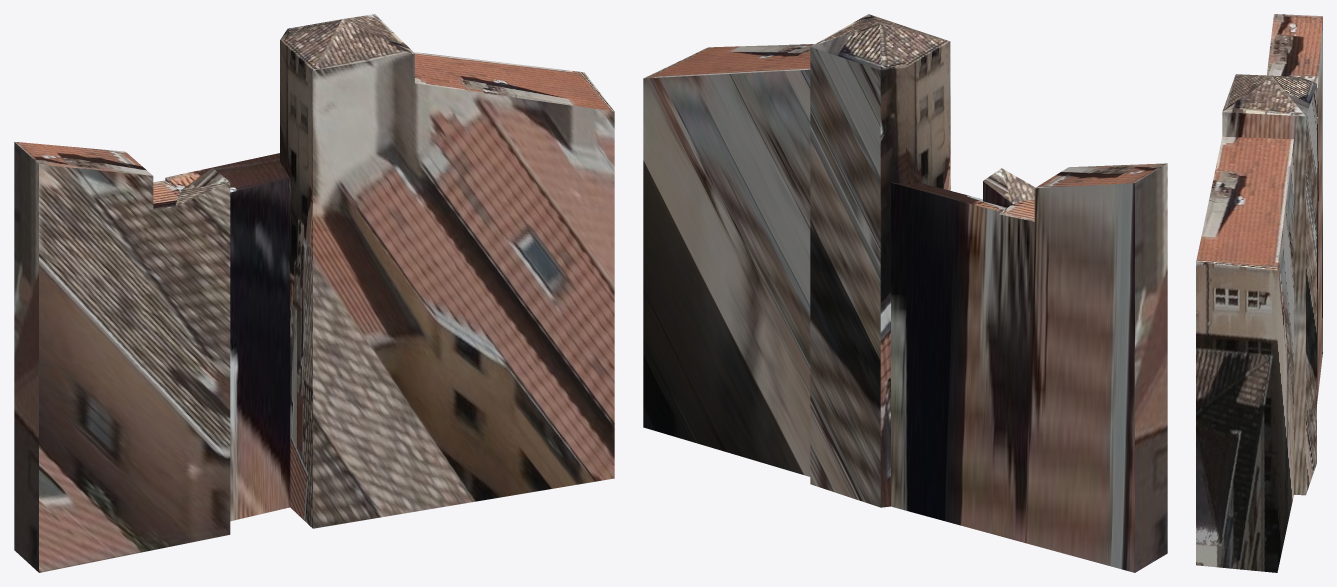
3 renders of one model, left to right at view 1: azimuth 30°, elevation 25°; view 2: azimuth 150°, elevation 25°; view 3: azimuth 270°, elevation 25°, orthographic. The views are drawn at different scales.
Visible parts, largest first — view 1: Z_UP; view 2: Z_UP; view 3: Z_UP.
Boxes of the visible parts, x1=… form: Z_UP: x1=14, y1=14, x2=614, y2=572; Z_UP: x1=643, y1=14, x2=1167, y2=572; Z_UP: x1=1196, y1=14, x2=1322, y2=572.
Size of the model in its own units: 27.18 by 22.8 by 6.59.
2 materials, 1 textured.
